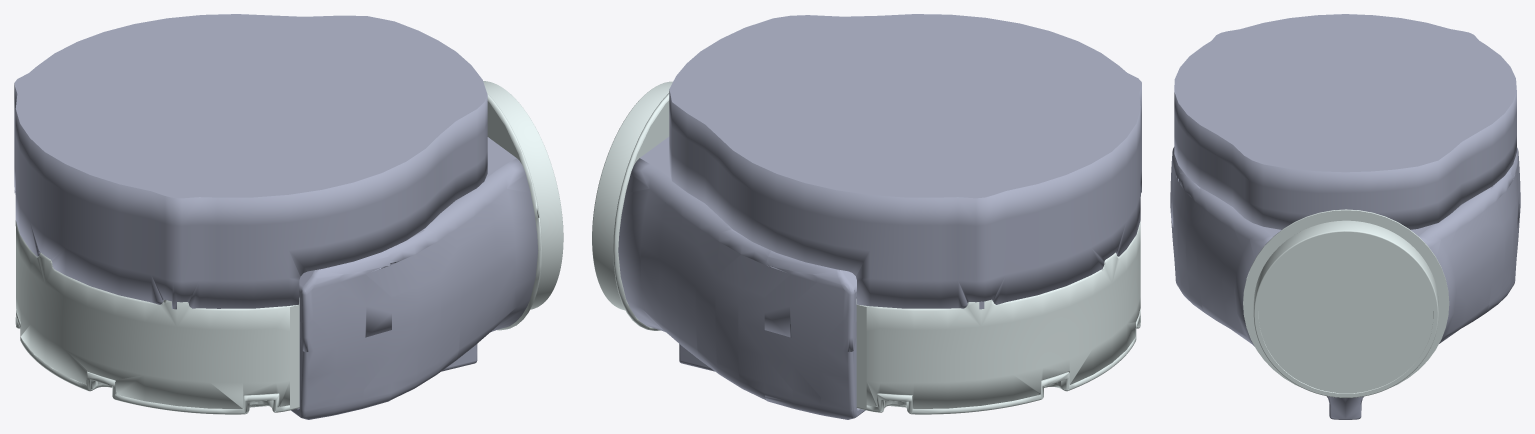
File: RL_hip.obj
3 renders of one model, left to right at view 1: azimuth 30°, elevation 25°; view 2: azimuth 150°, elevation 25°; view 3: azimuth 270°, elevation 25°, orthographic. The views are drawn at different scales.
Visible parts, largest first — view 1: RL_hip; view 2: RL_hip; view 3: RL_hip.
Part boxes in pixels (bbox=[...]): RL_hip: bbox=[14, 14, 563, 419]; RL_hip: bbox=[592, 14, 1141, 419]; RL_hip: bbox=[1170, 14, 1520, 419].
Bounding box in the file's own units: 0.1181 × 0.0756 × 0.0985.
